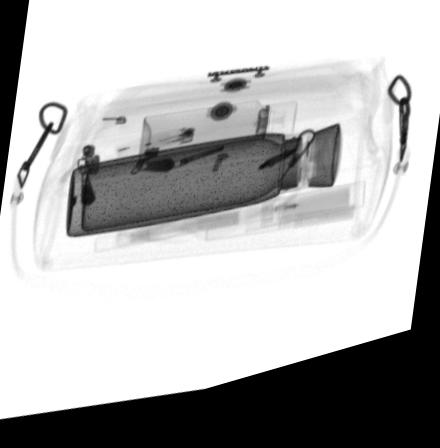Lighter: (113, 136, 192, 171)
Sprayer: (135, 112, 298, 174)
